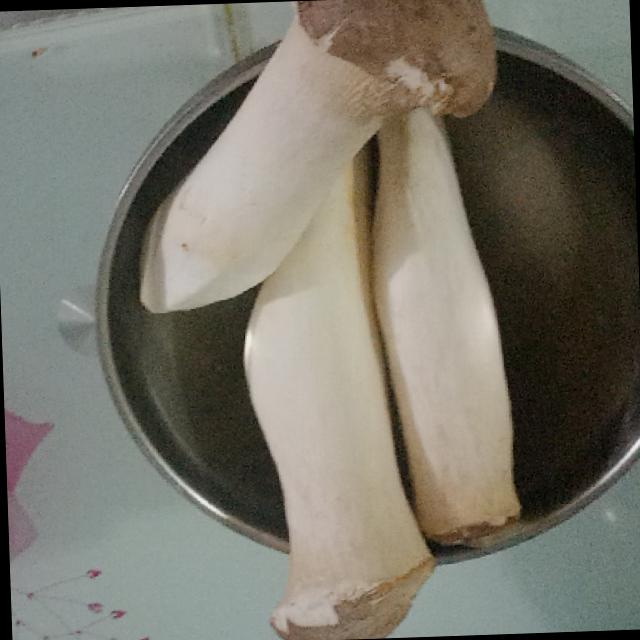Pleurotus eryngii: (136, 0, 500, 312), (252, 147, 434, 640)
